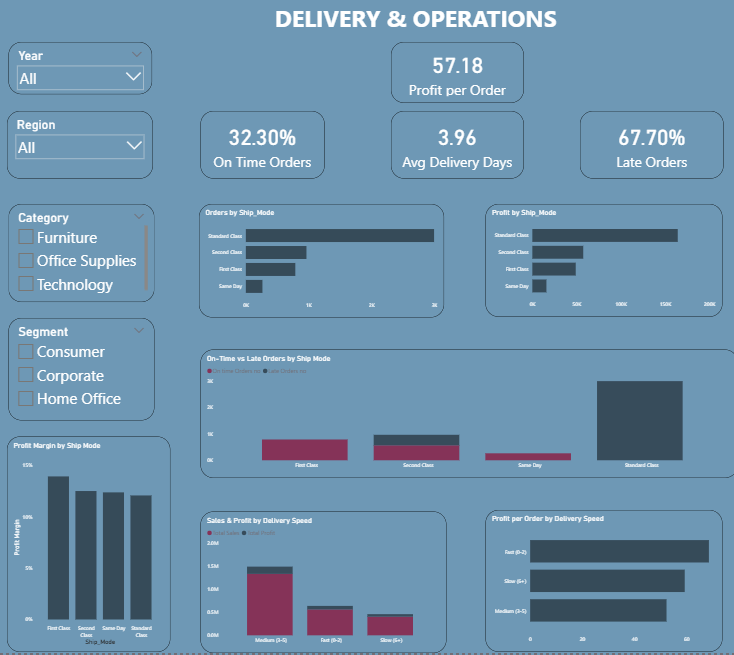

The dashboard page shown, as its layout file describes it:
{"tool":"powerbi","page":{"name":"  DELIVERY & OPERATIONS","canvas":[1700,1500],"ordinal":3},"visuals":[{"type":"slicer","fields":{"Values":["DateTable.Year"]},"box":[25,95,330,120],"z":0},{"type":"slicer","fields":{"Values":["Superstore.Region"]},"box":[20,255,335,155],"z":1000},{"type":"slicer","fields":{"Values":["Superstore.Category"]},"box":[25,470,335,225],"z":2000},{"type":"card","fields":{"Values":["DateTable.Avg Delivery Days"]},"box":[902.5,255,305,155],"z":3000},{"type":"card","fields":{"Values":["DateTable.Late Orders"]},"box":[1337.5,255,330,155],"z":4000},{"type":"card","fields":{"Values":["DateTable.On Time Orders"]},"box":[465,255,285,155],"z":5000},{"type":"card","fields":{"Values":["DateTable.Profit per Order"]},"box":[902.5,95,305,140],"z":6000},{"type":"barChart","title":"Orders by Ship_Mode","fields":{"Y":["DateTable.Total Orders"],"Category":["Superstore.Ship_Mode"]},"box":[463.6,469.7,563.6,260.6],"z":7000},{"type":"barChart","title":"Profit by Ship_Mode","fields":{"Category":["Superstore.Ship_Mode"],"Y":["DateTable.Total Profit"]},"box":[1122.2,470.4,544.4,259.3],"z":8000},{"type":"columnChart","title":"On-Time vs Late Orders by Ship Mode","fields":{"Category":["Superstore.Ship_Mode"],"Y":["DateTable.On time Orders no","DateTable.Late Orders no"]},"box":[465,805,1235,295],"z":9000},{"type":"columnChart","title":"Sales & Profit by Delivery Speed","fields":{"Category":["Superstore.Delivery Bucket"],"Y":["Superstore.Total Sales","DateTable.Total Profit"]},"box":[465,1175,565,325],"z":10000},{"type":"barChart","title":"Profit per Order by Delivery Speed","fields":{"Category":["Superstore.Delivery Bucket"],"Y":["DateTable.Profit per Order"]},"box":[1122.2,1174.1,544.4,325.9],"z":11000},{"type":"slicer","fields":{"Values":["Superstore.Segment"]},"box":[25,730,335,235],"z":12000},{"type":"columnChart","title":"Profit Margin by Ship Mode","fields":{"Category":["Superstore.Ship_Mode"],"Y":["DateTable.Profit Margin"]},"box":[20,1005,375,495],"z":13000},{"type":"textbox","box":[0,0,1700,95],"z":14000}]}

Visuals, with their boxes in screenshot pixels (x1, y1, x2, y2), scaled from the page's 1700x1500 canvas onto the 734x655 screenshot:
slicer - DateTable.Year: BBox(11, 41, 153, 94)
slicer - Superstore.Region: BBox(9, 111, 153, 179)
slicer - Superstore.Category: BBox(11, 205, 155, 303)
card - DateTable.Avg Delivery Days: BBox(390, 111, 521, 179)
card - DateTable.Late Orders: BBox(577, 111, 720, 179)
card - DateTable.On Time Orders: BBox(201, 111, 324, 179)
card - DateTable.Profit per Order: BBox(390, 41, 521, 103)
"Orders by Ship_Mode" barChart: BBox(200, 205, 444, 319)
"Profit by Ship_Mode" barChart: BBox(485, 205, 720, 319)
"On-Time vs Late Orders by Ship Mode" columnChart: BBox(201, 352, 733, 480)
"Sales & Profit by Delivery Speed" columnChart: BBox(201, 513, 445, 654)
"Profit per Order by Delivery Speed" barChart: BBox(485, 513, 720, 654)
slicer - Superstore.Segment: BBox(11, 319, 155, 421)
"Profit Margin by Ship Mode" columnChart: BBox(9, 439, 171, 654)
textbox: BBox(0, 0, 733, 41)
